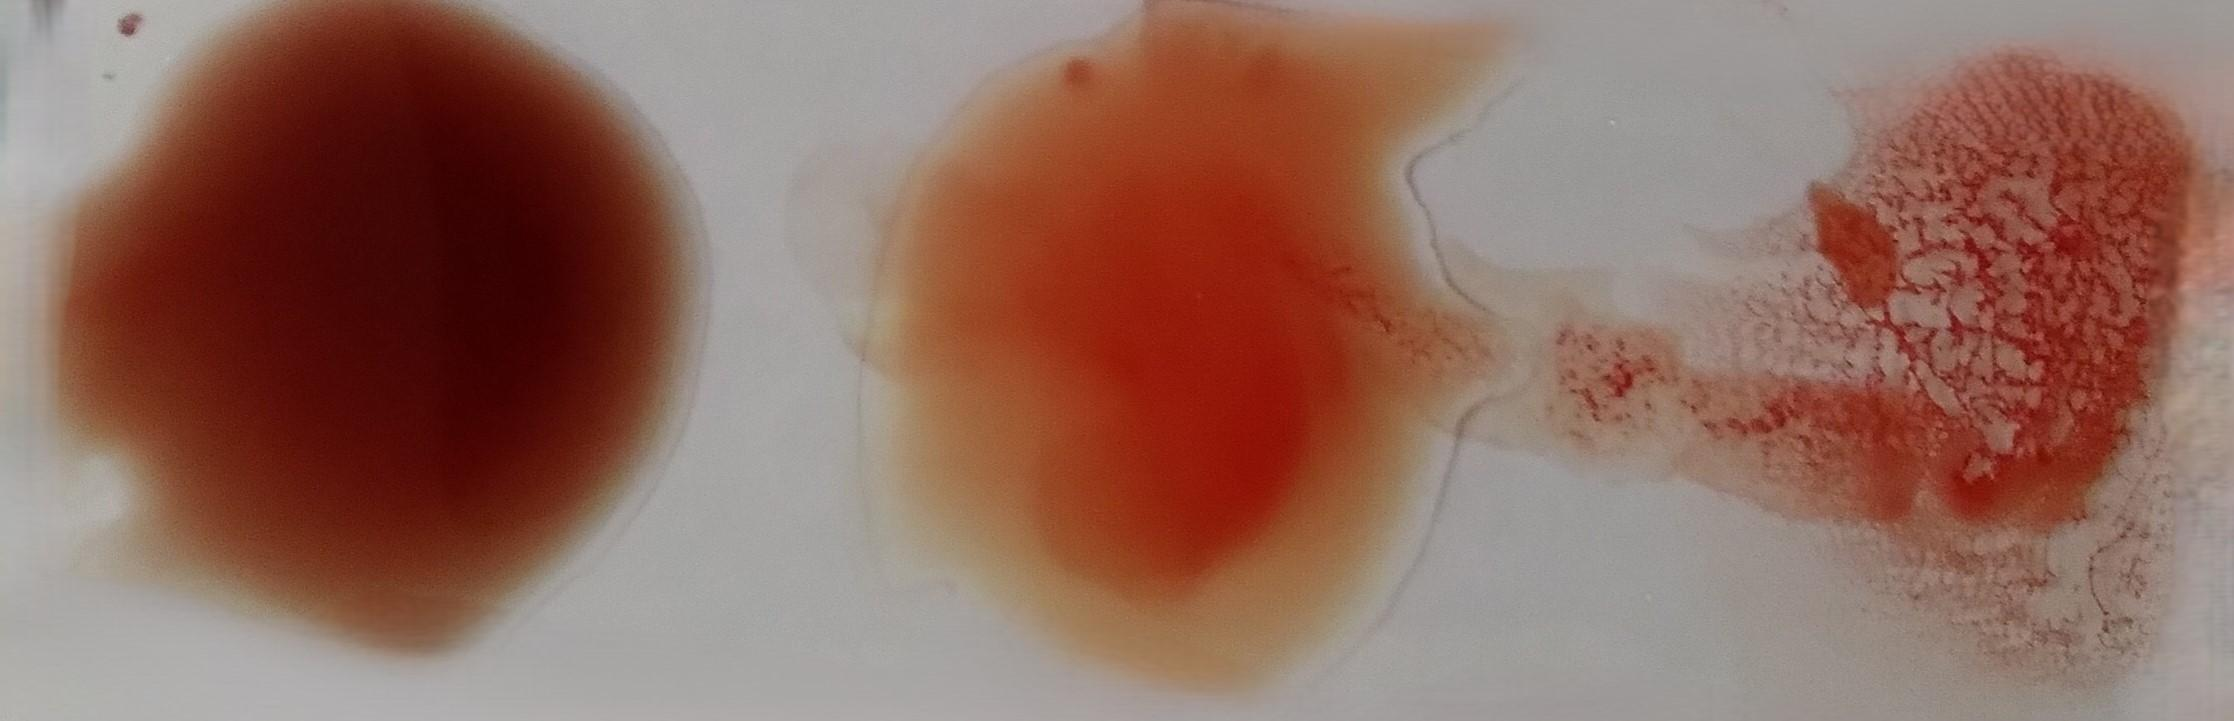D: (1802, 68, 2234, 647)
